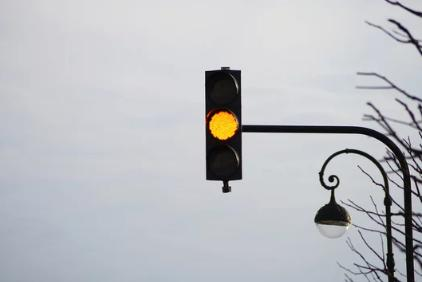yellow_light: (205, 70, 242, 180)
